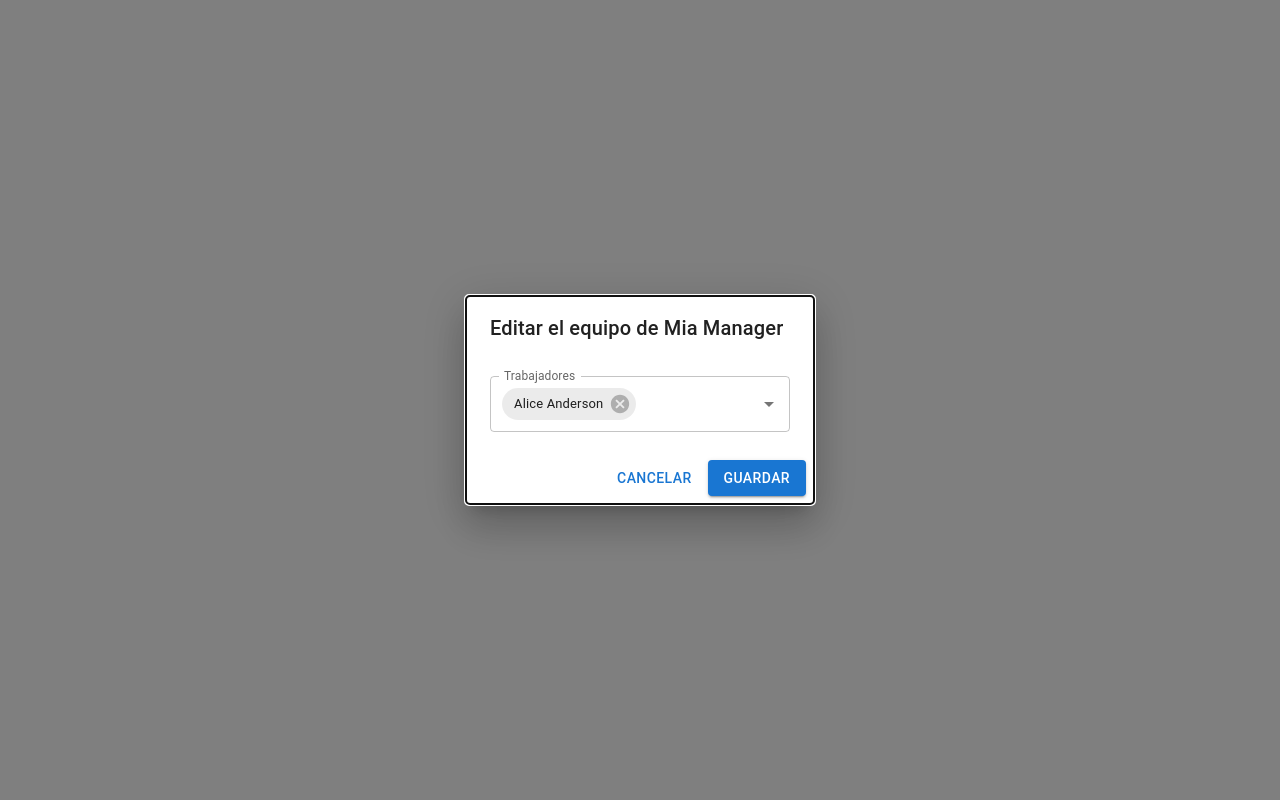
Test: TeamEditModal › translates a network failure when saving the team
Expected: the text "Alice Anderson" is shown, [514,396,603,411]
Click the button "Guardar".
click(757, 478)  # box [708,460,806,496]
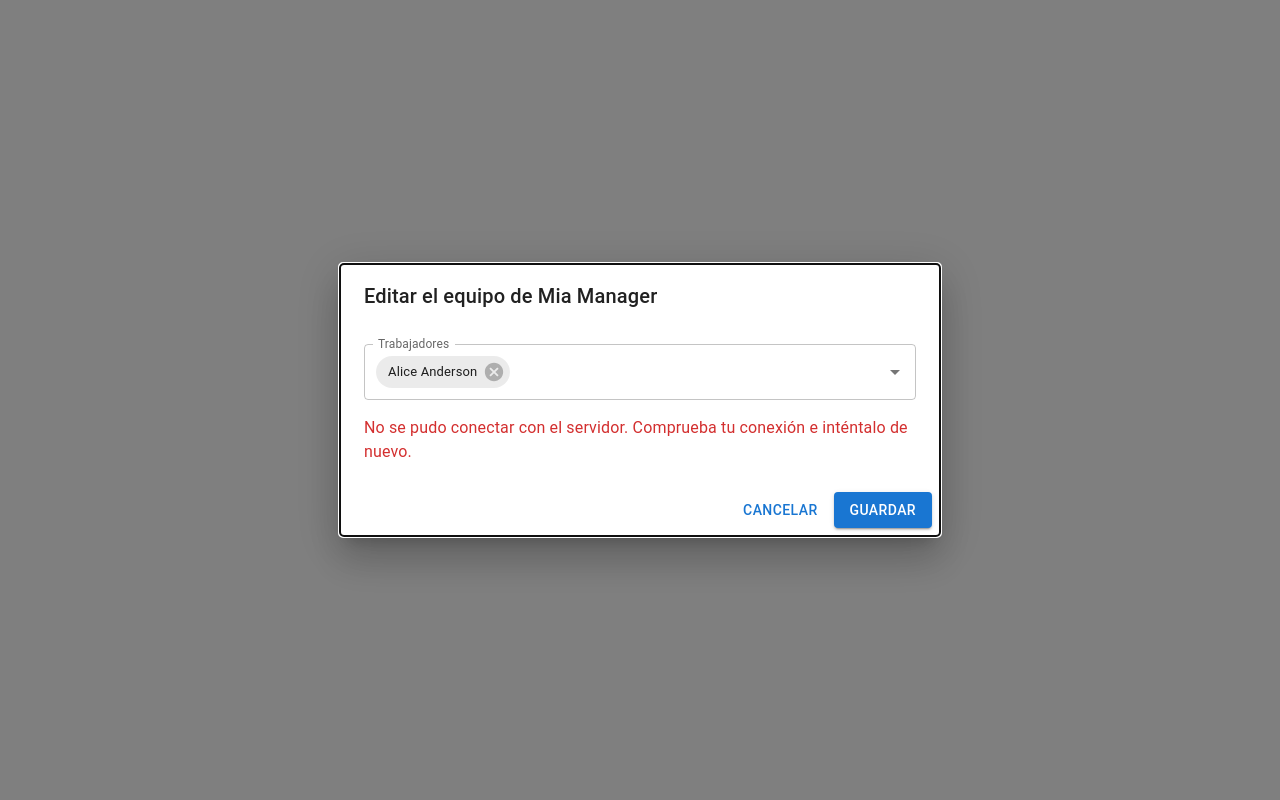
Now the text "No se pudo conectar con el servidor. Comprueba tu conexión e inténtalo de nuevo." is shown, box [364,416,916,464]
